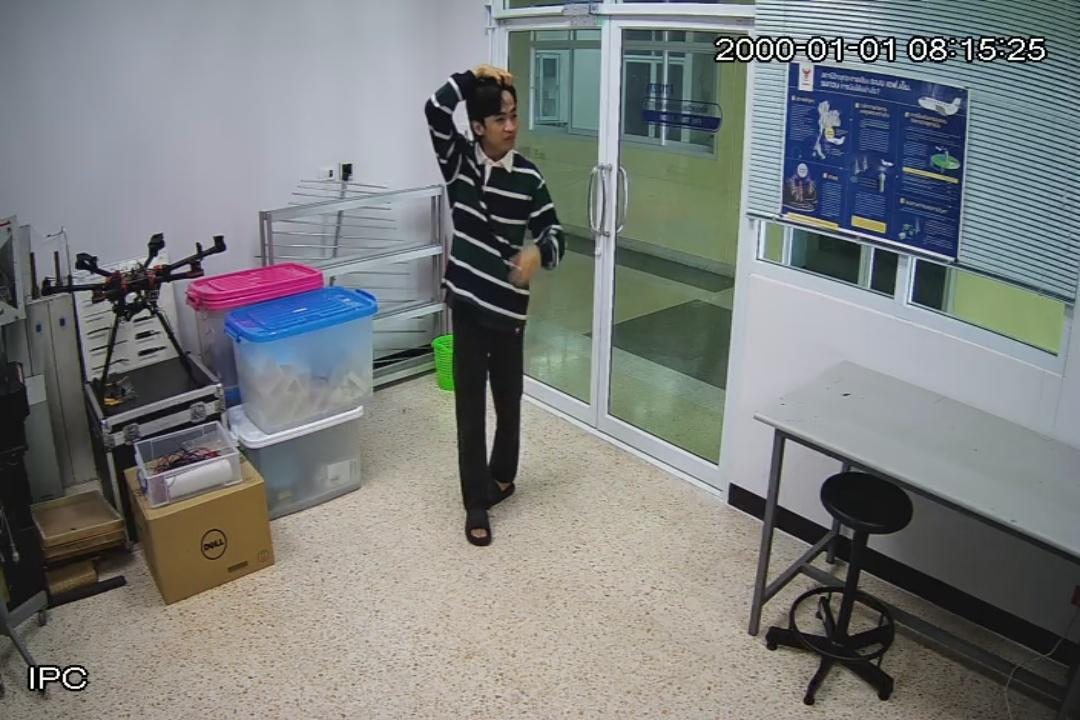normal: (426, 67, 565, 545)
